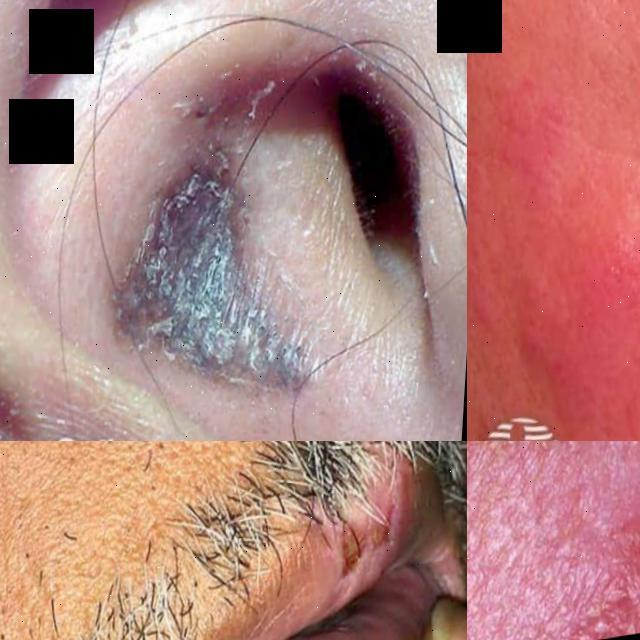lupus-detected: (24, 66, 370, 421), (467, 0, 640, 441), (467, 441, 640, 640), (291, 464, 460, 600)
